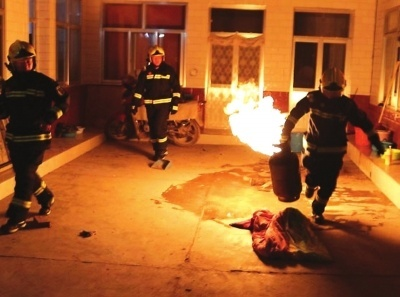fire: (223, 74, 289, 152)
